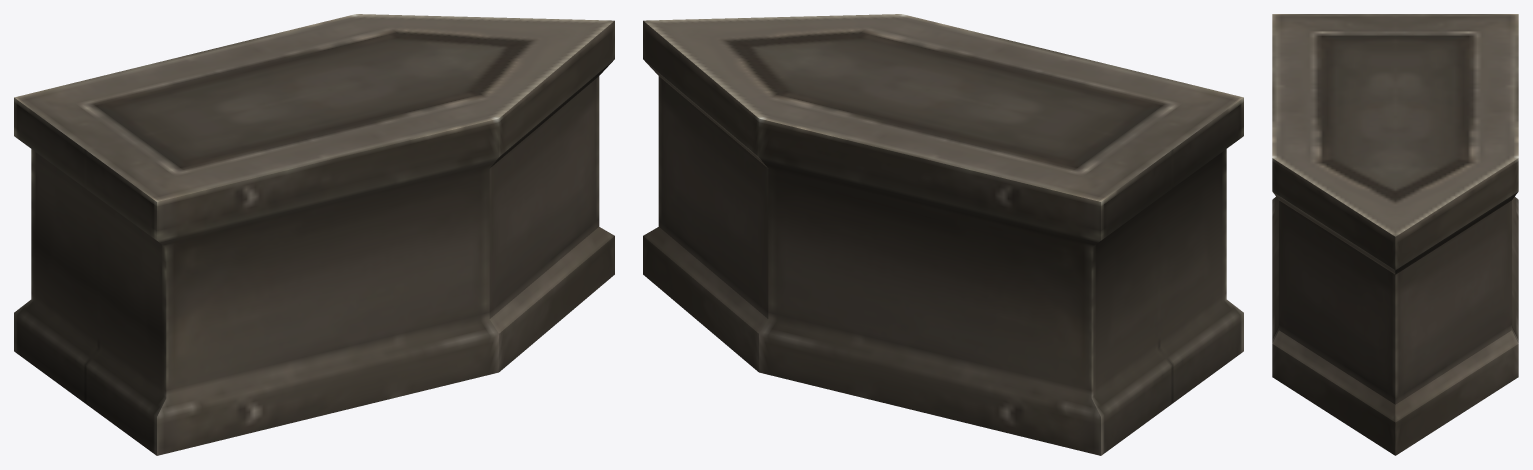
The model's file is Battle04_Cub_04.FBX.
3 views of the same model, side by side, from view 1: azimuth 30°, elevation 25°; view 2: azimuth 150°, elevation 25°; view 3: azimuth 270°, elevation 25° (orthographic). The views are drawn at different scales.
Parts seen in each view (by area): view 1: Battle04_Cub_04; view 2: Battle04_Cub_04; view 3: Battle04_Cub_04.
Part boxes in pixels (box(x1,y1,x2,y2)): Battle04_Cub_04: box(14, 14, 614, 455); Battle04_Cub_04: box(643, 14, 1243, 455); Battle04_Cub_04: box(1272, 14, 1518, 455).
Bounding box in the file's own units: 2.73 × 1.25 × 1.28.
